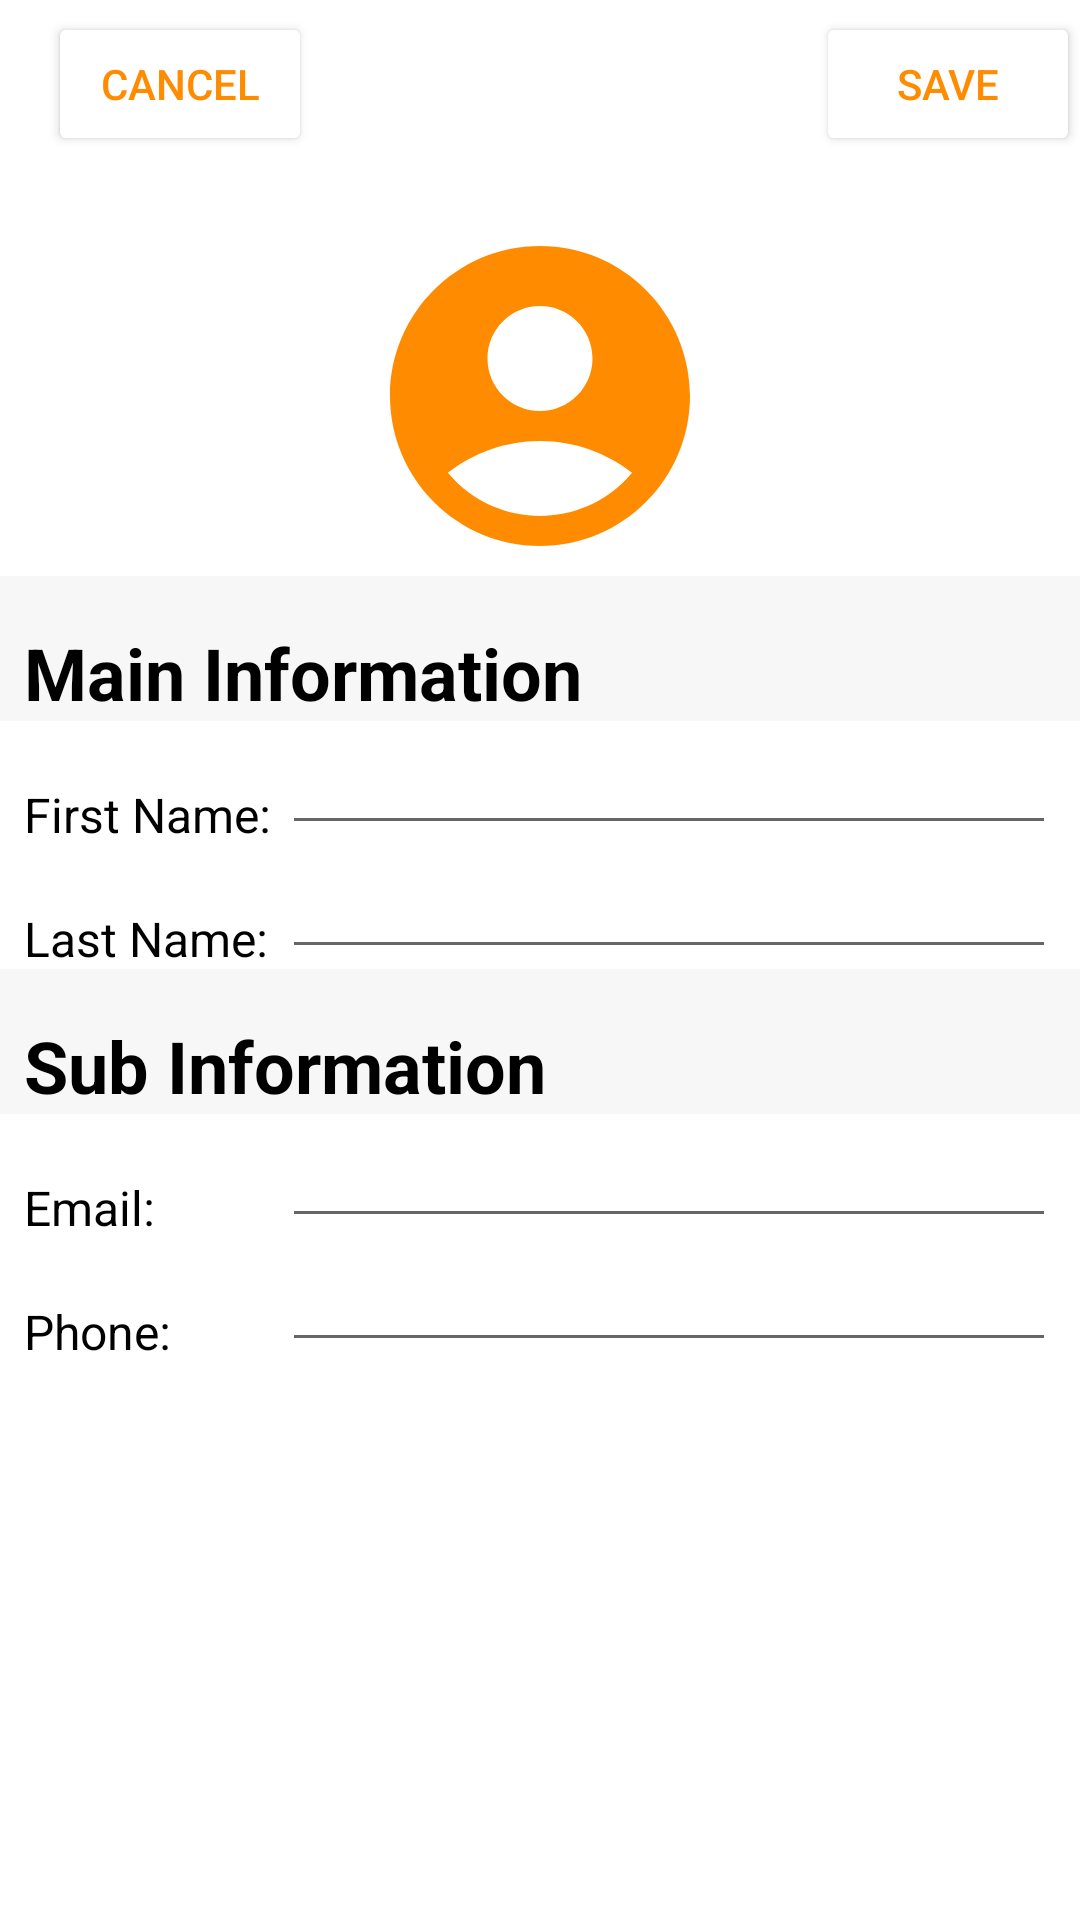

Where icons sit on this 1080 x 1920 app screen, as (x1, y1, x2, y2):
contact: (390, 246, 690, 546)
